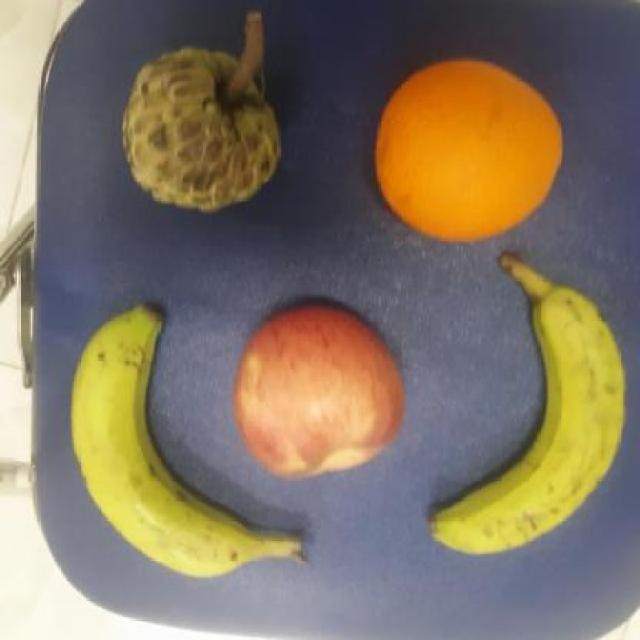apple: (228, 313, 406, 482)
banana: (72, 305, 306, 580), (427, 266, 627, 556)
oren: (374, 58, 566, 245)
sugar apple: (123, 49, 282, 212)
